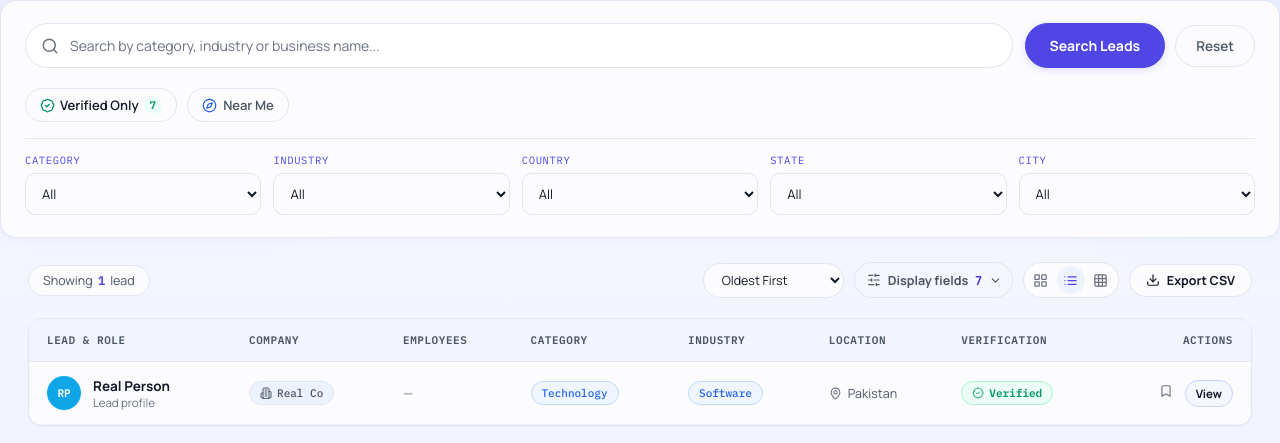
Test: DirectoryPage filters reach the API › combines country + industry into a single request
This screenshot has width=1280, height=443.
Expected: the text "Real Person" is shown, [93,376,170,394]
Select "Pakistan (5)" in the dropdown with class "app-filter-dropdown-select" below "COUNTRY" at (640, 194), box [522,173,758,215]
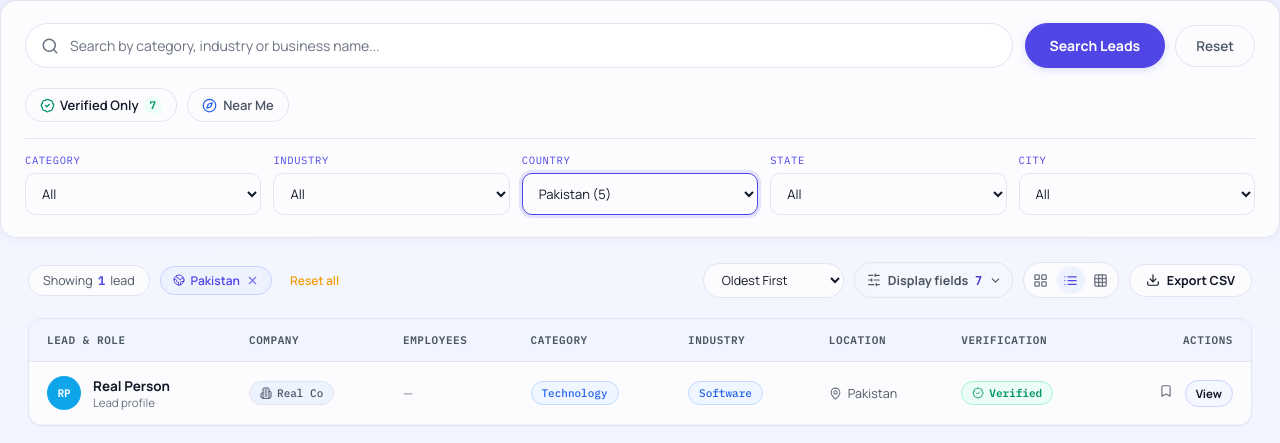
Select "Software (9)" in the 2nd dropdown with class "app-filter-dropdown-select" at (392, 194), box [273,173,510,215]
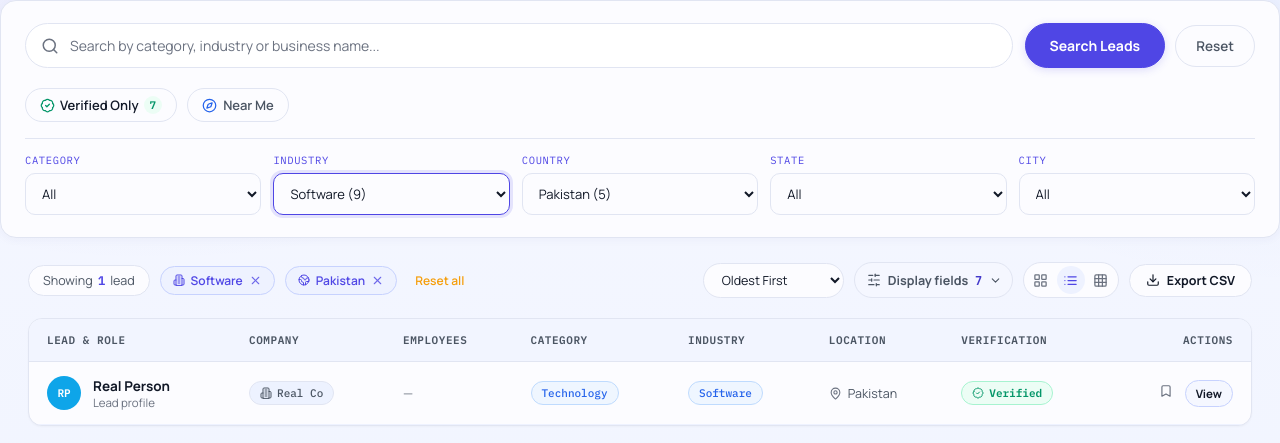
Expected: the element showing "Software" is shown, [160,266,275,294]
